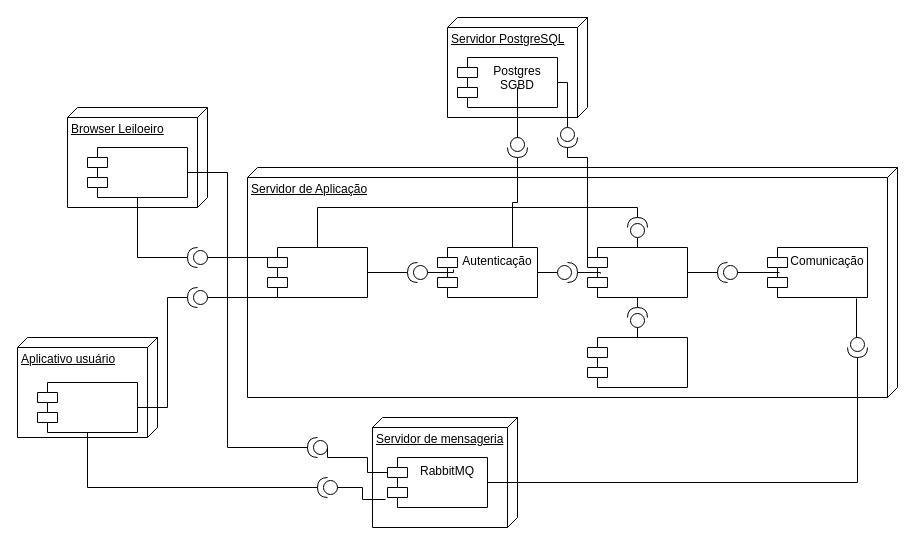
This 915x545 diagram has some shape labels left out. Each missing label, with the centre of its shape:
Interface mobile: point (87, 407)
Interface web: point (137, 172)
Leilão: point (637, 272)
Pagamento: point (637, 362)
Visão: point (317, 272)
